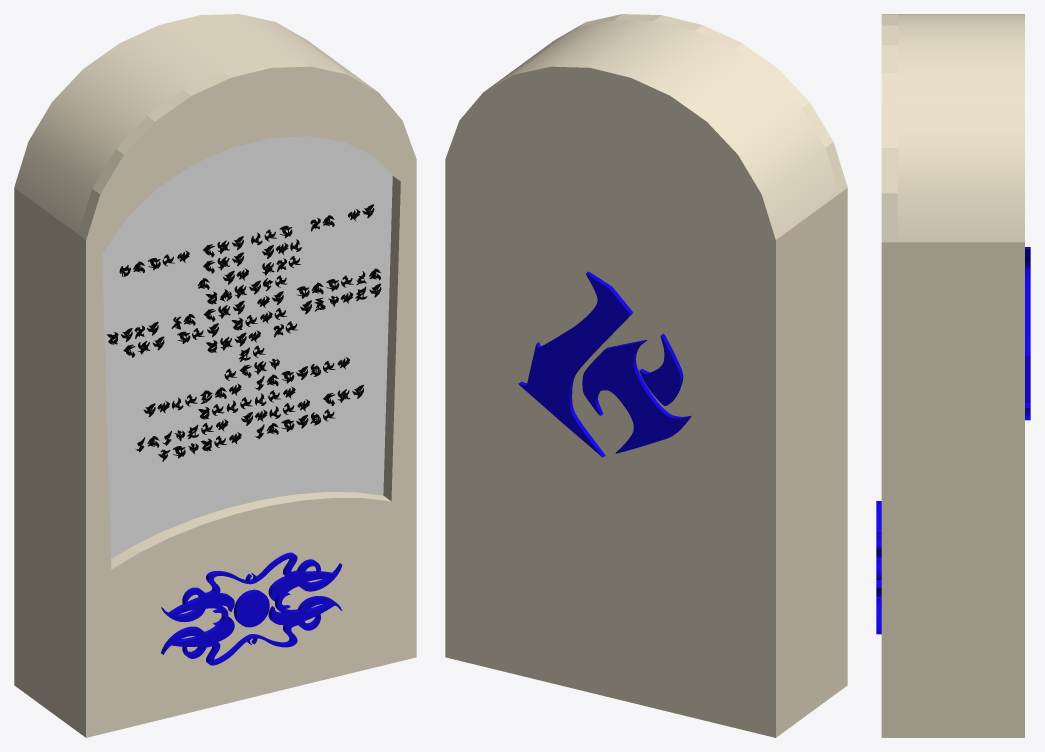
File: MURAL.fbx
3 views of the same model, side by side, from view 1: azimuth 30°, elevation 25°; view 2: azimuth 150°, elevation 25°; view 3: azimuth 270°, elevation 25° (orthographic).
Parts seen in each view (by area): view 1: Box001, PLANO, TextPlus005, TextPlus006; view 2: Box001, TextPlus004; view 3: Box001, TextPlus004, TextPlus006.
Part boxes in pixels (x1,y1,x2,y2): Box001: [14, 14, 416, 737]; PLANO: [102, 136, 392, 558]; TextPlus005: [107, 204, 381, 461]; TextPlus006: [161, 552, 342, 665]; Box001: [445, 14, 847, 737]; TextPlus004: [518, 271, 691, 457]; Box001: [881, 14, 1024, 737]; TextPlus004: [1025, 247, 1030, 420]; TextPlus006: [876, 501, 881, 634].
Size of the model in its own units: 177 by 320 by 72.1.
